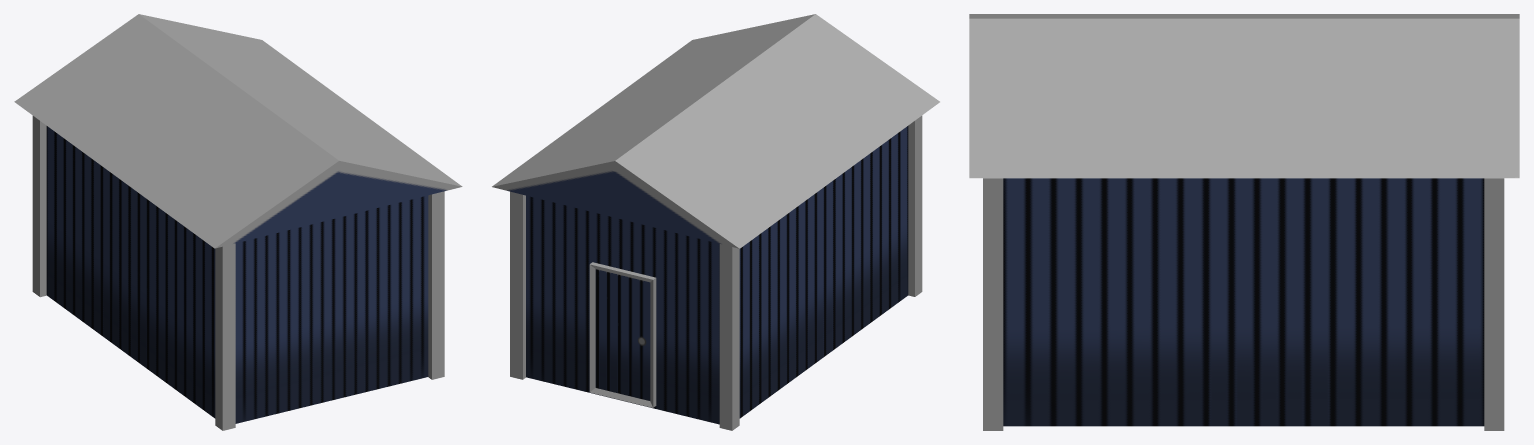
Rendered from cobertizo.fbx.
3 renders of one model, left to right at view 1: azimuth 30°, elevation 25°; view 2: azimuth 150°, elevation 25°; view 3: azimuth 270°, elevation 25°, orthographic. The views are drawn at different scales.
Parts seen in each view (by area): view 1: Cobertizo; view 2: Cobertizo; view 3: Cobertizo.
Boxes of the visible parts, <box> form: Cobertizo: <box>14,14,462,430</box>; Cobertizo: <box>492,14,939,430</box>; Cobertizo: <box>969,14,1519,430</box>.
Size of the model in its own units: 6211 by 5901 by 8695.
